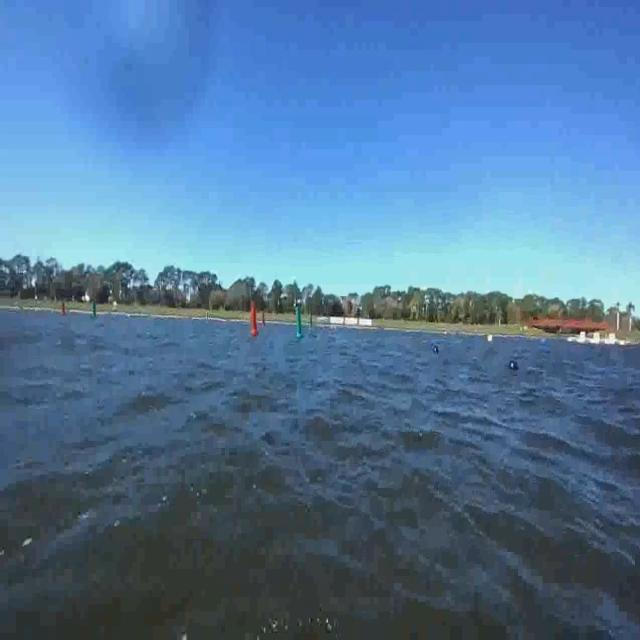black-buoy: (509, 360, 521, 374), (433, 344, 439, 355)
green-column-buoy: (294, 309, 304, 341), (92, 300, 99, 320)
red-column-buoy: (249, 302, 260, 337), (61, 301, 69, 318)
yellow-buoy: (487, 335, 494, 345)
